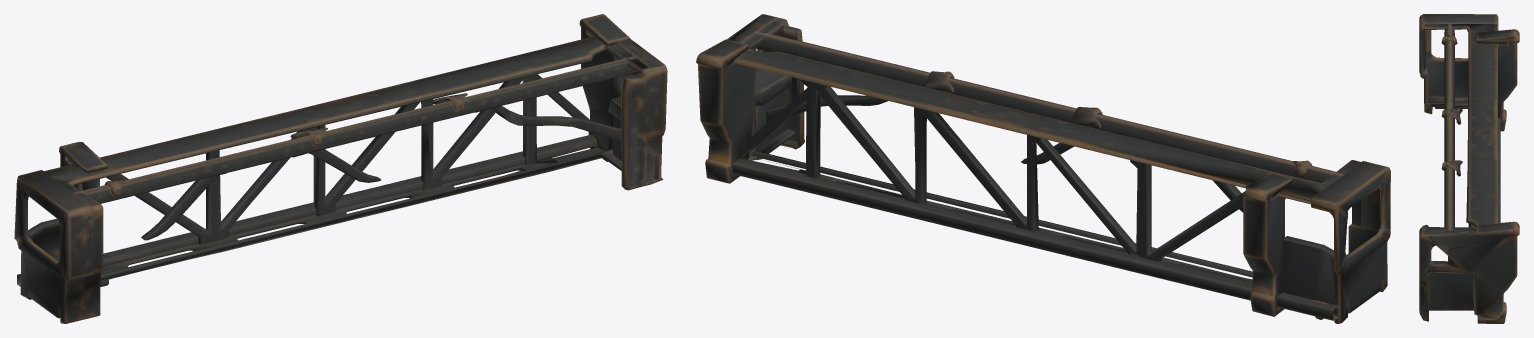
File: steel-girder.glb
The picture shows the model from 3 angles, left to right: view 1: azimuth 30°, elevation 25°; view 2: azimuth 150°, elevation 25°; view 3: azimuth 270°, elevation 25°; orthographic projection. The views are drawn at different scales.
Size of the model in its own units: 1 by 0.1988 by 0.1906.
Materials: 1 (1 with a texture image).
